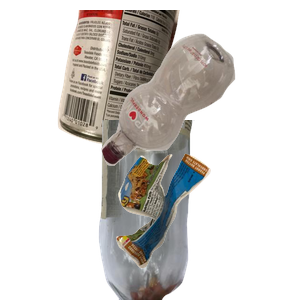glass: (96, 120, 283, 300)
metal: (55, 10, 227, 149)
plastic: (99, 31, 300, 189)
trash: (114, 151, 300, 300)
